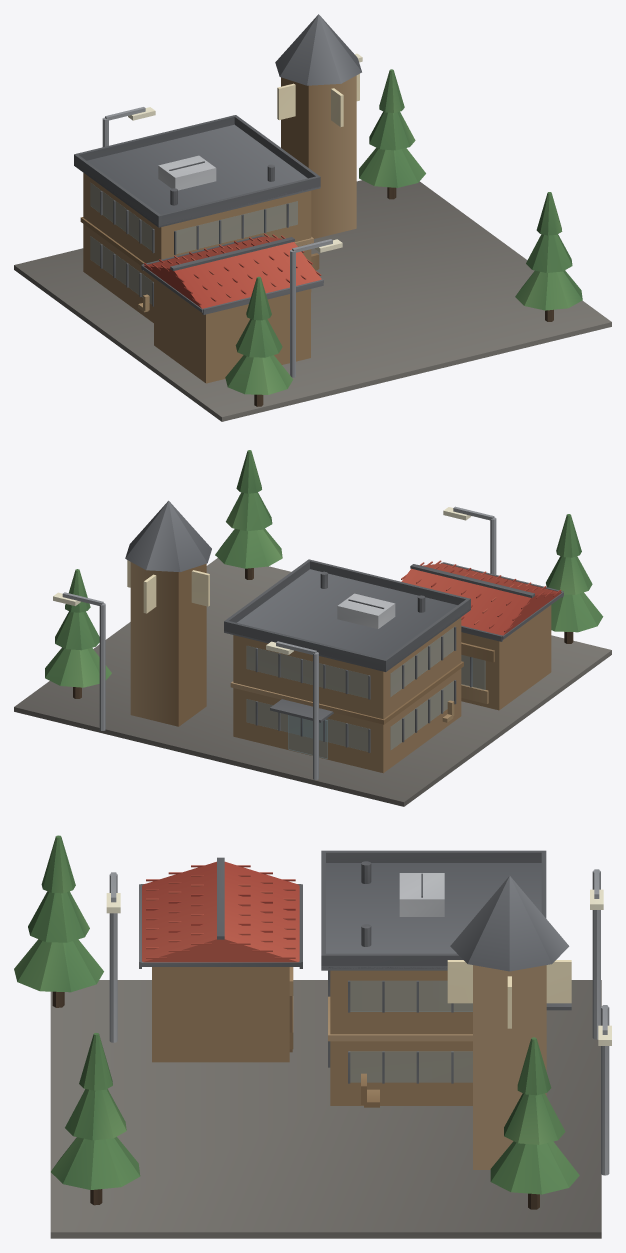
File: Civic_P1.fbx
3 views of the same model, one above another, from view 1: azimuth 30°, elevation 25°; view 2: azimuth 150°, elevation 25°; view 3: azimuth 270°, elevation 25° (orthographic). The views are drawn at different scales.
Parts seen in each view (by area): view 1: Civic.Plaza, Civic.Hall, Civic.Shop0, Civic.Tower, Civic.Tree2, Civic.Tree0, Civic.Tree1, Civic.Lamp0, Civic.Lamp2; view 2: Civic.Hall, Civic.Plaza, Civic.Tower, Civic.Shop0, Civic.Tree1, Civic.Tree0, Civic.Tree2, Civic.Lamp1, Civic.Lamp2, Civic.Lamp0; view 3: Civic.Plaza, Civic.Hall, Civic.Shop0, Civic.Tower, Civic.Tree2, Civic.Tree0, Civic.Tree1, Civic.Lamp0, Civic.Lamp1, Civic.Lamp2.
Boxes of the visible parts, x1,y1,x2,y2 form: Civic.Plaza: (14,180,611,421); Civic.Hall: (74,115,320,322); Civic.Shop0: (141,233,323,383); Civic.Tower: (275,14,361,238); Civic.Tree2: (225,276,293,406); Civic.Tree0: (359,69,425,199); Civic.Tree1: (515,192,582,321); Civic.Lamp0: (290,239,342,377); Civic.Lamp2: (102,107,155,146); Civic.Hall: (224,559,470,773); Civic.Plaza: (14,558,611,806); Civic.Tower: (125,500,211,726); Civic.Shop0: (401,560,563,710); Civic.Tree1: (215,450,282,579); Civic.Tree0: (45,569,111,698); Civic.Tree2: (546,514,603,643); Civic.Lamp1: (53,592,105,730); Civic.Lamp2: (266,641,318,779); Civic.Lamp0: (443,506,496,574); Civic.Plaza: (50,980,601,1238); Civic.Hall: (321,850,571,1105); Civic.Shop0: (139,857,302,1062); Civic.Tower: (447,876,571,1169); Civic.Tree2: (14,835,103,1007); Civic.Tree0: (490,1037,579,1209); Civic.Tree1: (51,1033,140,1205); Civic.Lamp0: (106,872,120,1042); Civic.Lamp1: (598,1005,611,1175); Civic.Lamp2: (590,869,603,1039).
Size of the model in its own units: 2600 by 1371 by 2604.
